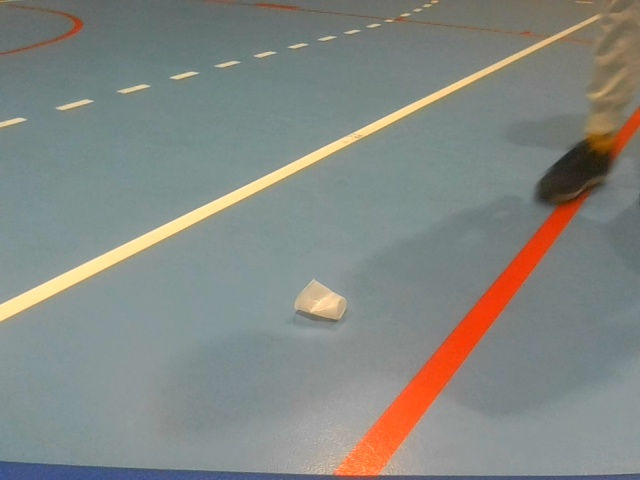plasticcup: (291, 277, 348, 322)
